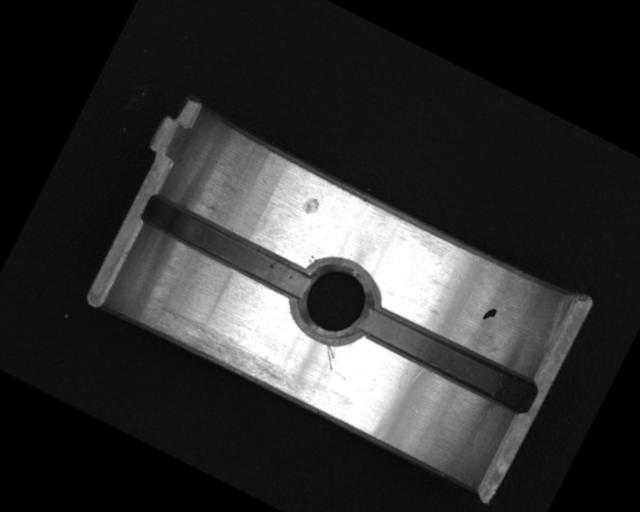blot: (480, 304, 499, 325)
bruise: (298, 193, 323, 218)
gap: (352, 298, 542, 419), (136, 189, 314, 303)
hole: (281, 247, 386, 356)
nick: (316, 342, 342, 372)
scratch: (140, 297, 302, 400)
